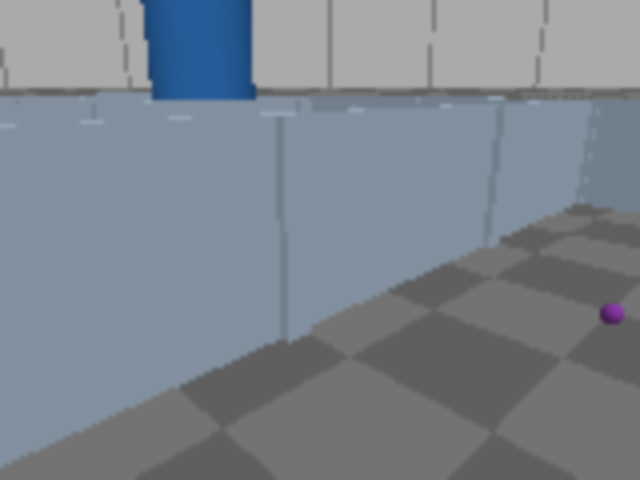puck: (597, 298, 628, 329)
